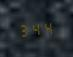four: (31, 20, 42, 36), (43, 19, 54, 35)
three: (18, 21, 29, 37)
